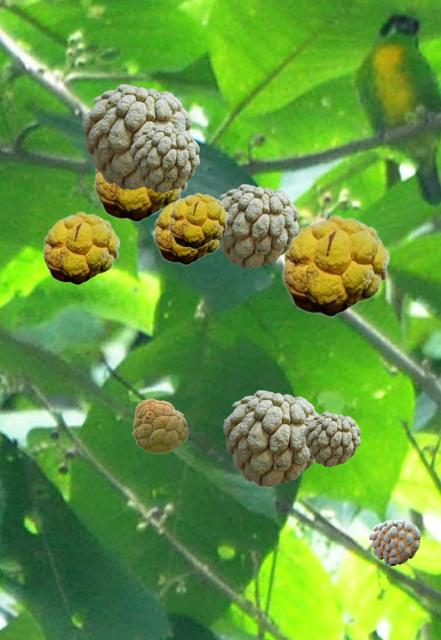atis: (82, 84, 190, 188), (281, 214, 389, 316), (223, 390, 319, 485), (217, 184, 297, 267), (42, 211, 119, 284), (93, 168, 188, 221), (153, 195, 219, 264), (130, 125, 198, 191), (168, 192, 227, 248), (132, 398, 187, 452), (304, 412, 359, 465), (369, 520, 419, 564)
